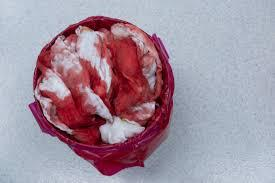cotton: (35, 24, 161, 143), (99, 116, 144, 143)
